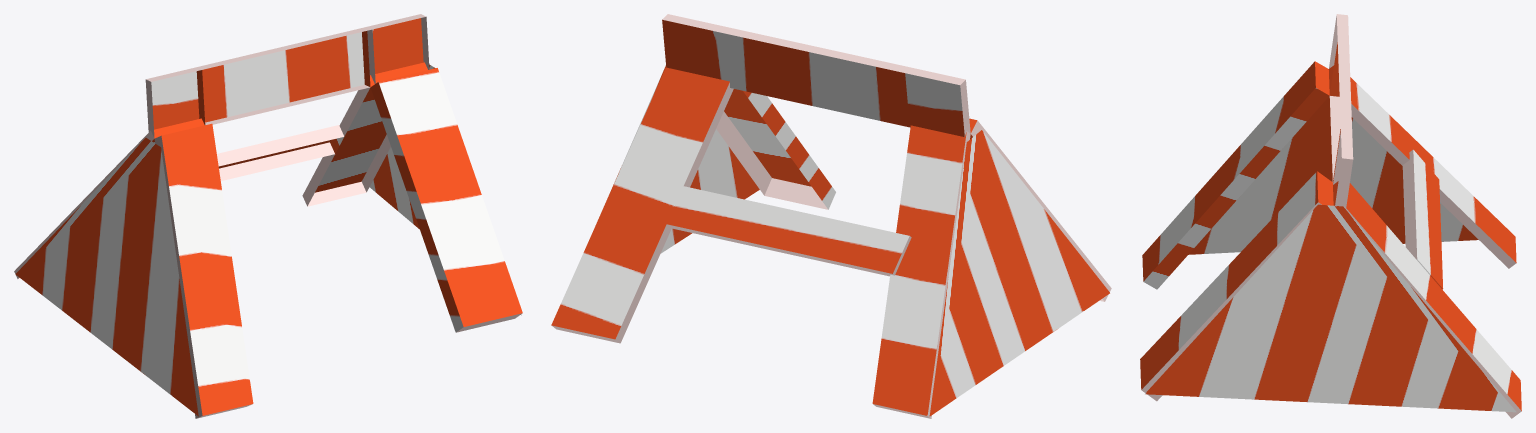
The model's file is BARR.fbx.
The picture shows the model from 3 angles, left to right: view 1: azimuth 30°, elevation 25°; view 2: azimuth 150°, elevation 25°; view 3: azimuth 270°, elevation 25°; orthographic projection. The views are drawn at different scales.
Parts seen in each view (by area): view 1: Plane.002; view 2: Plane.002; view 3: Plane.002.
Part boxes in pixels (x1,y1,x2,y2): Plane.002: (14, 14, 522, 418); Plane.002: (551, 14, 1111, 418); Plane.002: (1140, 14, 1521, 418).
Bounding box in the file's own units: 485 × 347 × 441.
